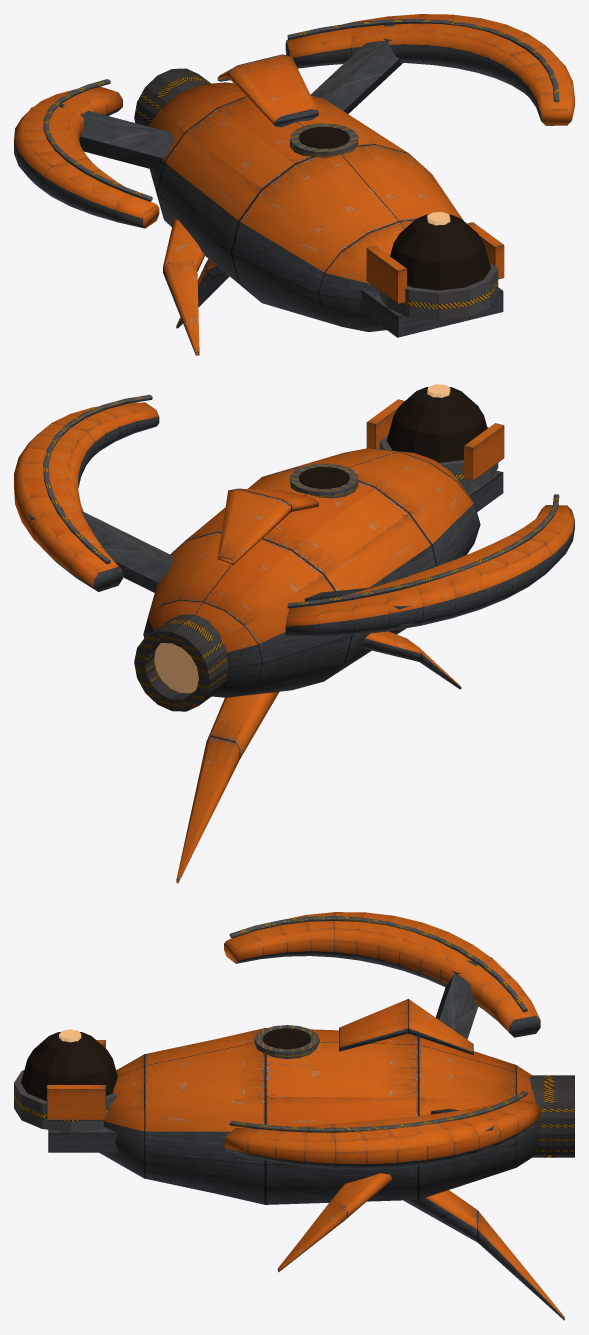
The model's file is pioneer-saturn-l05-shield.glb.
The picture shows the model from 3 angles, top to bottom: view 1: azimuth 30°, elevation 25°; view 2: azimuth 150°, elevation 25°; view 3: azimuth 270°, elevation 25°; orthographic projection. The views are drawn at different scales.
Parts seen in each view (by area): view 1: Drone; view 2: Drone; view 3: Drone.
Part boxes in pixels (box(x1,y1,x2,y2)): Drone: box(14, 14, 574, 355); Drone: box(14, 384, 574, 883); Drone: box(14, 912, 574, 1320).
Size of the model in its own units: 1.28 by 0.791 by 1.29.
Materials: 3 (3 with a texture image).
